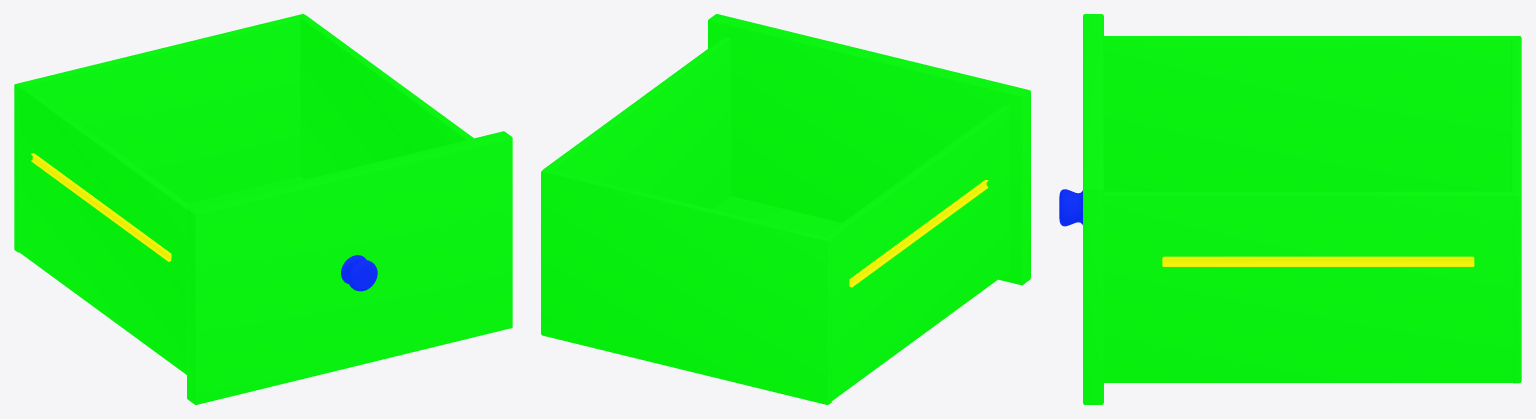
The model's file is Schublade.fbx.
3 renders of one model, left to right at view 1: azimuth 30°, elevation 25°; view 2: azimuth 150°, elevation 25°; view 3: azimuth 270°, elevation 25°, orthographic. The views are drawn at different scales.
Visible parts, largest first — view 1: Schublade_links_oben_Export; view 2: Schublade_links_oben_Export; view 3: Schublade_links_oben_Export.
Part boxes in pixels (box(x1,y1,x2,y2)): Schublade_links_oben_Export: box(14, 14, 512, 404); Schublade_links_oben_Export: box(541, 14, 1030, 404); Schublade_links_oben_Export: box(1059, 14, 1521, 404).
Size of the model in its own units: 40 by 23 by 44.43.
